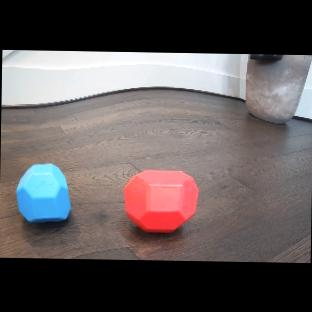V5_BLUE: (14, 161, 72, 223)
V5_RED: (121, 168, 201, 233)
